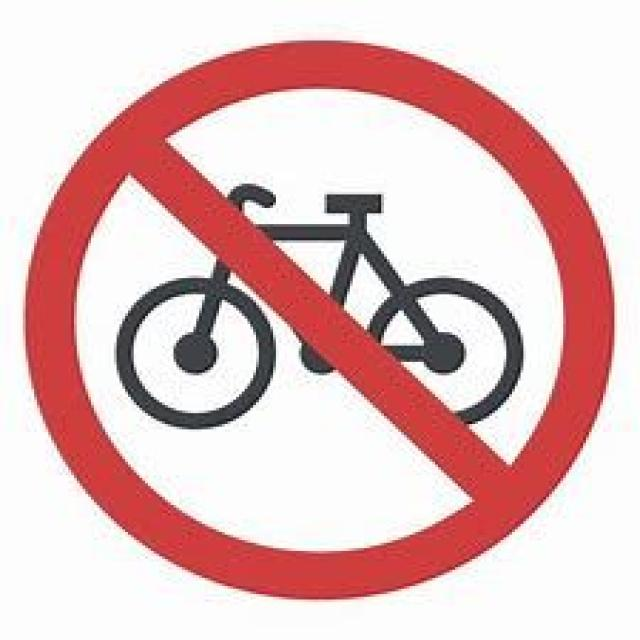cycle_prohibited: (23, 38, 614, 599)
